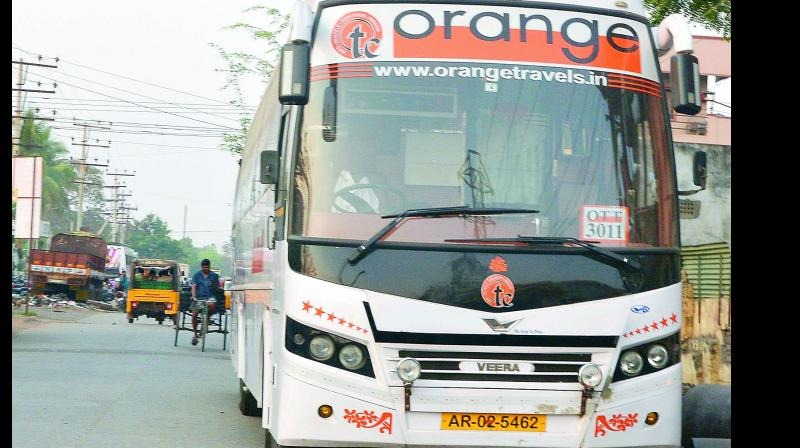bus: (232, 3, 707, 448)
numberplate: (437, 409, 554, 436)
